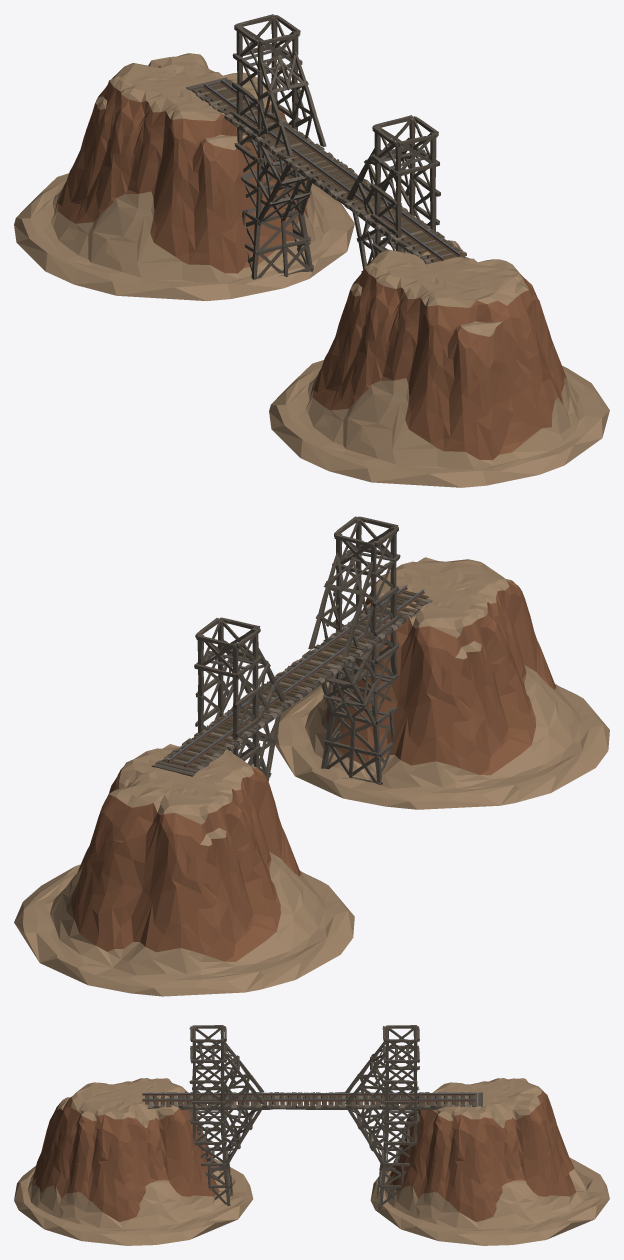
Rendered from kopru.fbx.
3 views of the same model, one above another, from view 1: azimuth 30°, elevation 25°; view 2: azimuth 150°, elevation 25°; view 3: azimuth 270°, elevation 25° (orthographic). The views are drawn at different scales.
Parts seen in each view (by area): view 1: SM_Env_Cliff_Cap_003, SM_Env_Cliff_Cap_004, SM_Bld_Quarry_Tower_002, SM_Bld_Quarry_Tower_01, SM_Env_Train_Track_Bridge_Top_004, SM_Env_Train_Track_Bridge_Top_002, SM_Env_Train_Track_Bridge_Top_003, SM_Env_Train_Track_Bridge_Top_005; view 2: SM_Env_Cliff_Cap_004, SM_Env_Cliff_Cap_003, SM_Bld_Quarry_Tower_01, SM_Bld_Quarry_Tower_002, SM_Env_Train_Track_Bridge_Top_005, SM_Env_Train_Track_Bridge_Top_003, SM_Env_Train_Track_Bridge_Top_004, SM_Env_Train_Track_Bridge_Top_002; view 3: SM_Env_Cliff_Cap_003, SM_Env_Cliff_Cap_004, SM_Bld_Quarry_Tower_002, SM_Bld_Quarry_Tower_01, SM_Env_Train_Track_Bridge_Top_003, SM_Env_Train_Track_Bridge_Top_004, SM_Env_Train_Track_Bridge_Top_005, SM_Env_Train_Track_Bridge_Top_002.
Boxes of the visible parts, left/top/right/bottom form: SM_Env_Cliff_Cap_003: left=269, top=240, right=609, bottom=487; SM_Env_Cliff_Cap_004: left=14, top=53, right=354, bottom=300; SM_Bld_Quarry_Tower_002: left=232, top=14, right=326, bottom=279; SM_Bld_Quarry_Tower_01: left=346, top=115, right=440, bottom=272; SM_Env_Train_Track_Bridge_Top_004: left=246, top=121, right=346, bottom=180; SM_Env_Train_Track_Bridge_Top_002: left=366, top=209, right=466, bottom=264; SM_Env_Train_Track_Bridge_Top_003: left=306, top=165, right=406, bottom=224; SM_Env_Train_Track_Bridge_Top_005: left=186, top=77, right=286, bottom=136; SM_Env_Cliff_Cap_004: left=14, top=744, right=354, bottom=996; SM_Env_Cliff_Cap_003: left=270, top=557, right=609, bottom=809; SM_Bld_Quarry_Tower_01: left=308, top=516, right=400, bottom=784; SM_Bld_Quarry_Tower_002: left=194, top=617, right=285, bottom=781; SM_Env_Train_Track_Bridge_Top_005: left=151, top=722, right=252, bottom=776; SM_Env_Train_Track_Bridge_Top_003: left=275, top=634, right=372, bottom=693; SM_Env_Train_Track_Bridge_Top_004: left=212, top=680, right=312, bottom=737; SM_Env_Train_Track_Bridge_Top_002: left=332, top=593, right=432, bottom=649; SM_Env_Cliff_Cap_003: left=14, top=1078, right=253, bottom=1245; SM_Env_Cliff_Cap_004: left=370, top=1078, right=609, bottom=1245; SM_Bld_Quarry_Tower_002: left=345, top=1025, right=419, bottom=1209; SM_Bld_Quarry_Tower_01: left=189, top=1025, right=264, bottom=1205; SM_Env_Train_Track_Bridge_Top_003: left=231, top=1092, right=316, bottom=1109; SM_Env_Train_Track_Bridge_Top_004: left=315, top=1092, right=399, bottom=1109; SM_Env_Train_Track_Bridge_Top_005: left=400, top=1092, right=482, bottom=1109; SM_Env_Train_Track_Bridge_Top_002: left=147, top=1092, right=232, bottom=1109.
Bounding box in the file's own units: 2808 × 2205 × 7020.
Materials: 1 (1 with a texture image).
